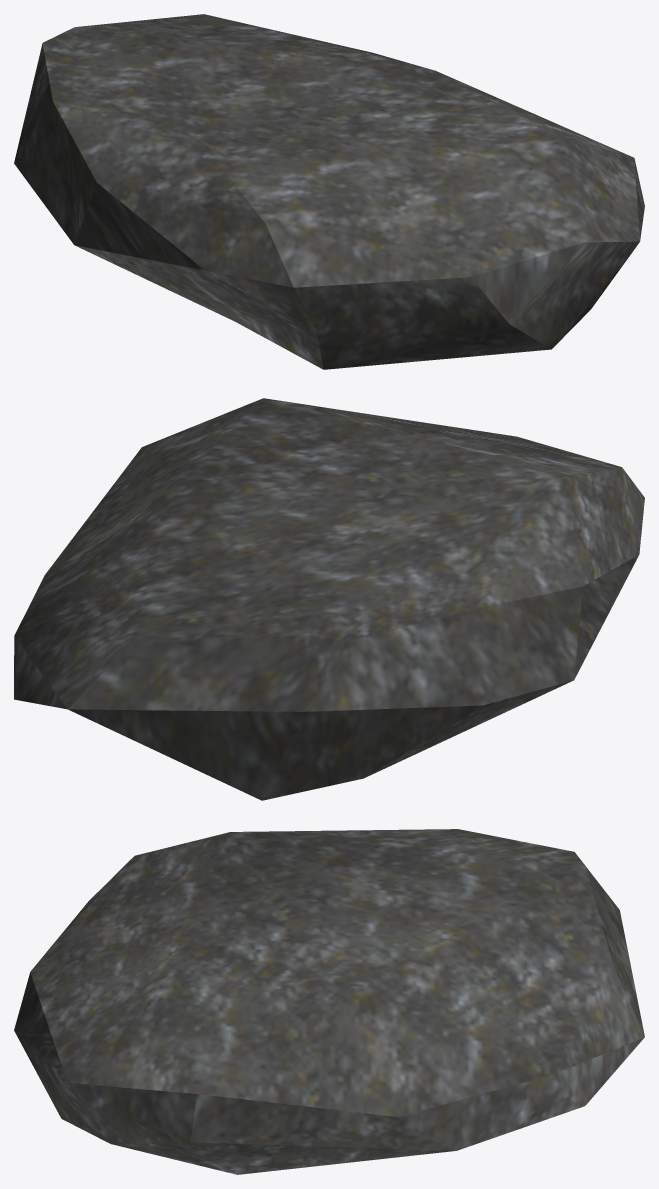
The model's file is ROCK.fbx.
3 renders of one model, top to bottom at view 1: azimuth 30°, elevation 25°; view 2: azimuth 150°, elevation 25°; view 3: azimuth 270°, elevation 25°, orthographic. The views are drawn at different scales.
Visible parts, largest first — view 1: defaultMaterial.004; view 2: defaultMaterial.004; view 3: defaultMaterial.004.
Part boxes in pixels (x1,y1,x2,y2): defaultMaterial.004: [14, 14, 644, 369]; defaultMaterial.004: [14, 398, 644, 800]; defaultMaterial.004: [14, 829, 644, 1174].
Size of the model in its own units: 65.75 by 27.25 by 78.67.
